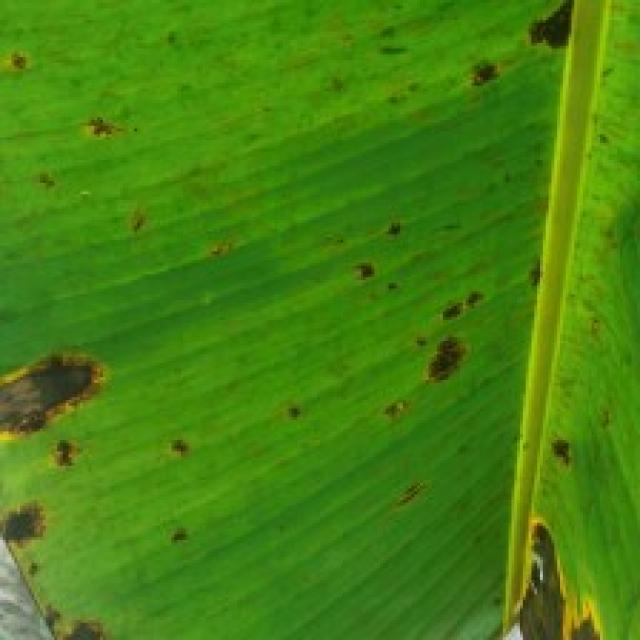Downey_mildrew: (349, 203, 579, 412), (0, 328, 143, 640), (9, 46, 170, 240), (496, 516, 636, 640), (442, 0, 582, 108), (164, 432, 230, 582), (542, 429, 610, 481), (392, 474, 432, 526), (278, 379, 304, 430)
